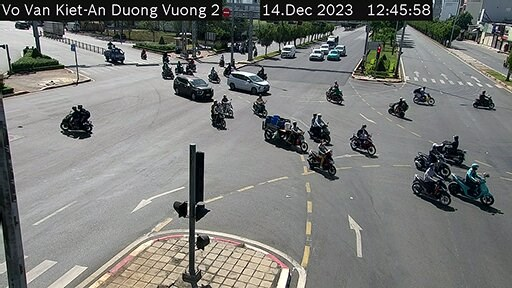car: (223, 67, 273, 96), (279, 42, 300, 63), (308, 46, 323, 63), (336, 44, 351, 60), (324, 47, 338, 63), (329, 32, 338, 47)
motorbike: (409, 160, 455, 210), (458, 154, 498, 208), (60, 98, 98, 139), (309, 143, 339, 187), (306, 109, 333, 153), (411, 143, 451, 171), (353, 123, 380, 161), (206, 101, 233, 135), (442, 124, 467, 160), (219, 93, 240, 125), (472, 87, 497, 113), (389, 99, 411, 125), (325, 74, 340, 110), (247, 95, 269, 118), (416, 86, 437, 107), (203, 66, 223, 88), (160, 64, 175, 81), (216, 53, 228, 71)
